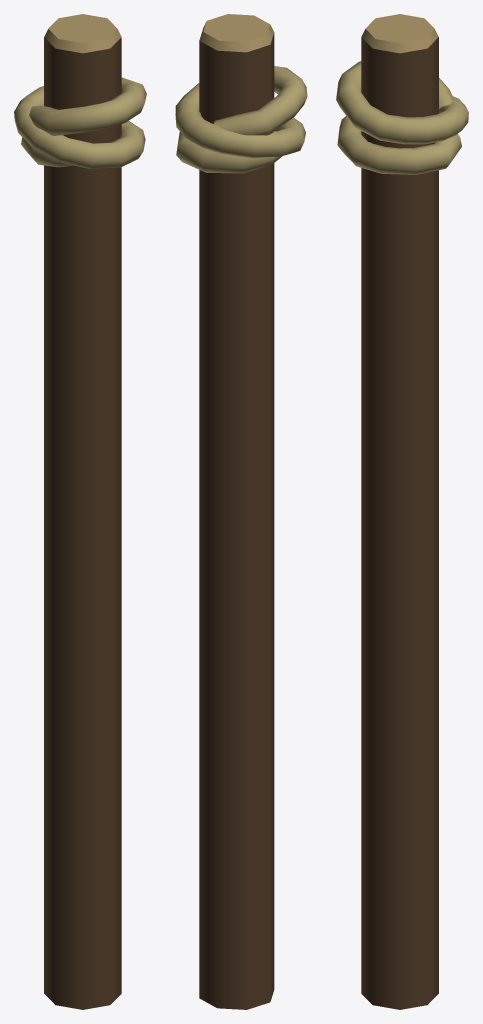
The model's file is environment_dock_pole.glb.
3 renders of one model, left to right at view 1: azimuth 90°, elevation 25°; view 2: azimuth 150°, elevation 25°; view 3: azimuth 270°, elevation 25°, orthographic.
Parts seen in each view (by area): view 1: Environment_Dock_Pole; view 2: Environment_Dock_Pole; view 3: Environment_Dock_Pole.
Boxes of the visible parts, bbox=[...] form: Environment_Dock_Pole: bbox=[14, 14, 146, 1009]; Environment_Dock_Pole: bbox=[175, 14, 307, 1009]; Environment_Dock_Pole: bbox=[336, 14, 468, 1009].
Bounding box in the file's own units: 0.3665 × 3.01 × 0.376.
1 material, 1 textured.
